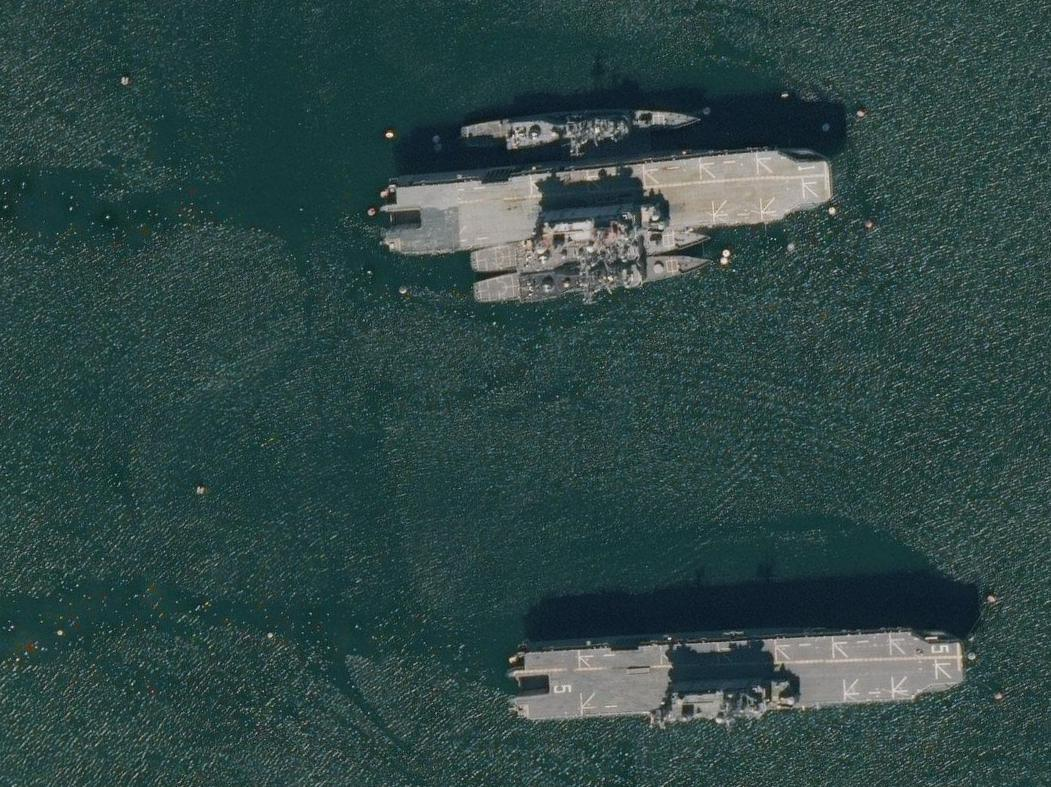pha: (378, 145, 836, 268), (501, 622, 971, 735)
